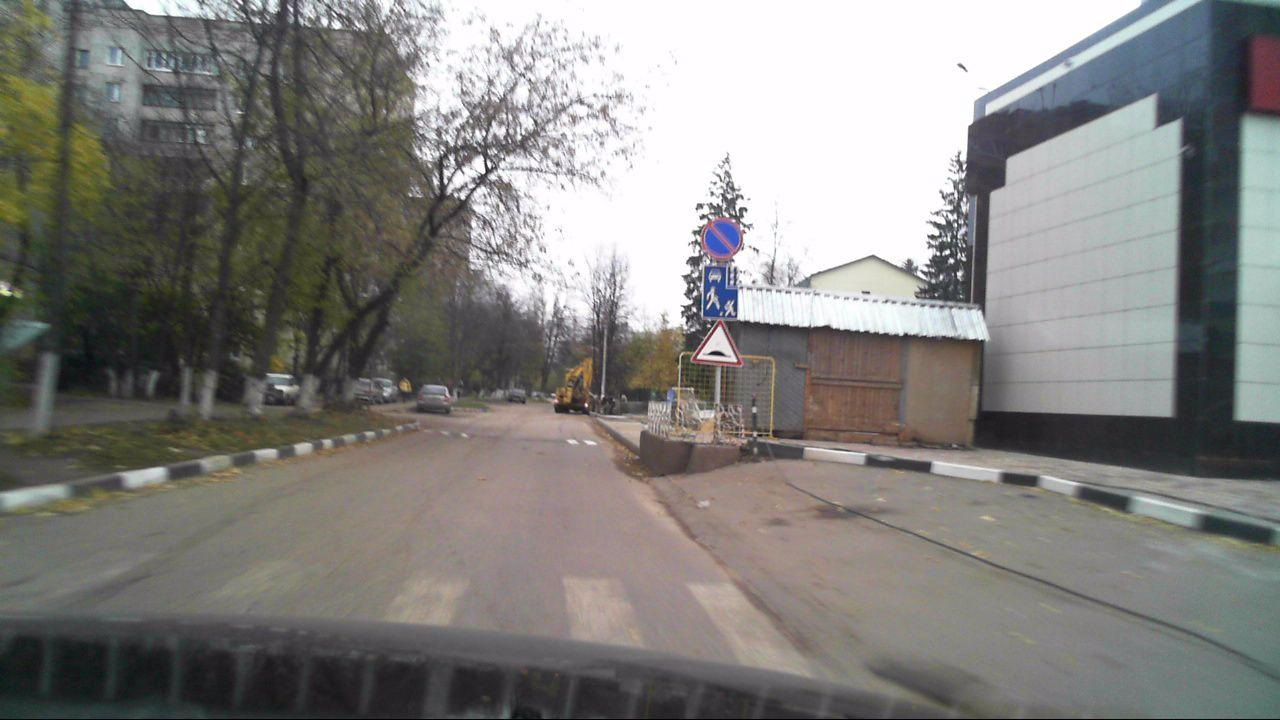1_17: (691, 320, 744, 369)
3_28: (703, 219, 743, 261)
5_21: (702, 265, 738, 319)
